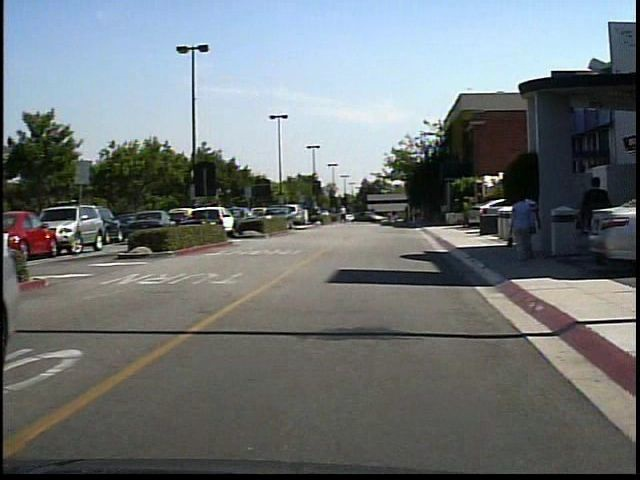person: (583, 172, 621, 266), (515, 190, 544, 266), (529, 189, 548, 262), (343, 203, 353, 227)
